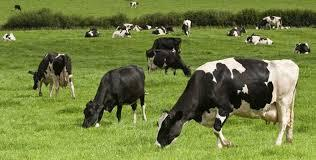cow: (157, 59, 299, 146), (84, 65, 146, 127), (30, 53, 75, 96), (147, 49, 191, 77), (151, 37, 184, 53), (258, 15, 284, 30), (245, 35, 274, 48), (227, 26, 247, 36), (119, 23, 141, 31), (295, 43, 312, 53), (86, 27, 101, 37), (112, 30, 133, 36), (183, 20, 192, 34), (151, 27, 169, 34), (4, 33, 17, 42), (161, 25, 174, 33), (13, 4, 24, 11), (130, 2, 140, 7)
